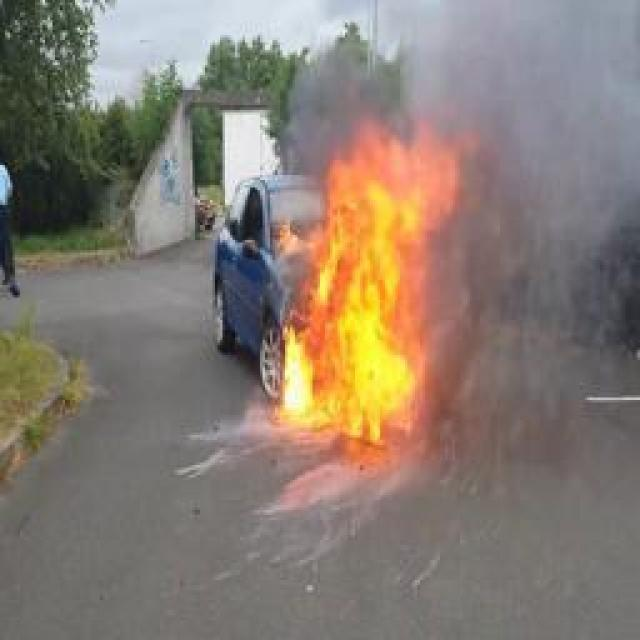Fire: (281, 89, 479, 446)
